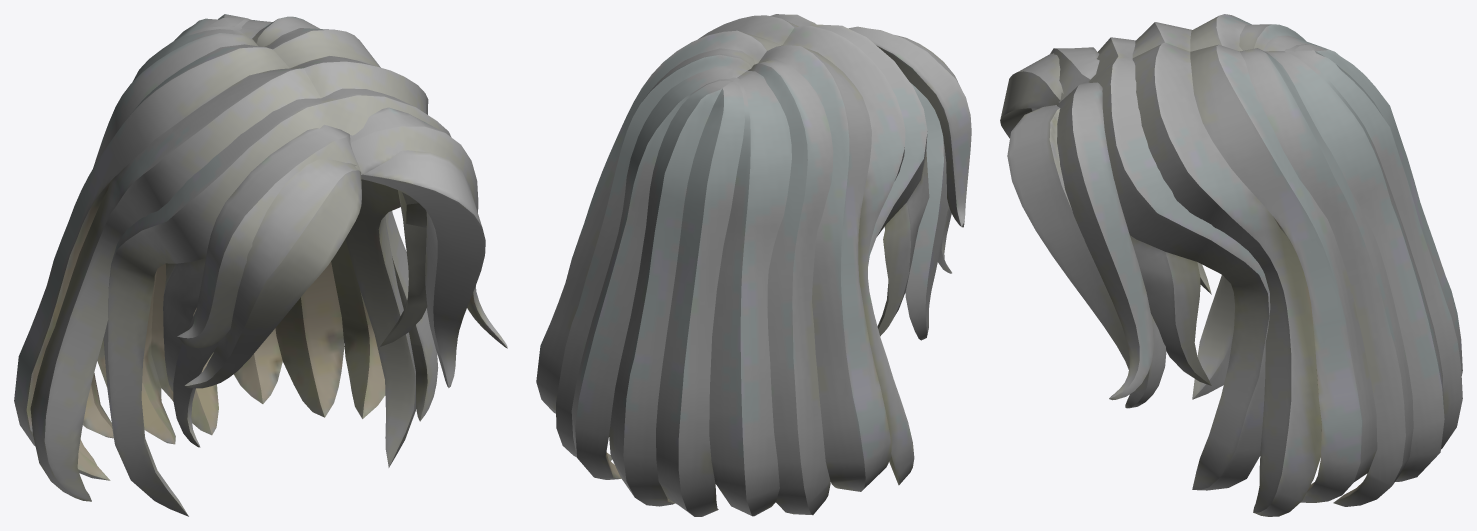
File: female.hair.long.hair-2.gltf
The picture shows the model from 3 angles, left to right: view 1: azimuth 30°, elevation 25°; view 2: azimuth 150°, elevation 25°; view 3: azimuth 270°, elevation 25°; orthographic projection. The views are drawn at different scales.
Visible parts, largest first — view 1: Hair_Long; view 2: Hair_Long; view 3: Hair_Long.
Boxes of the visible parts, left/top/right/bottom form: Hair_Long: left=14, top=14, right=507, bottom=516; Hair_Long: left=536, top=14, right=971, bottom=516; Hair_Long: left=1000, top=14, right=1462, bottom=516.
Size of the model in its own units: 0.2447 by 0.2764 by 0.2705.
1 material, 1 textured.
